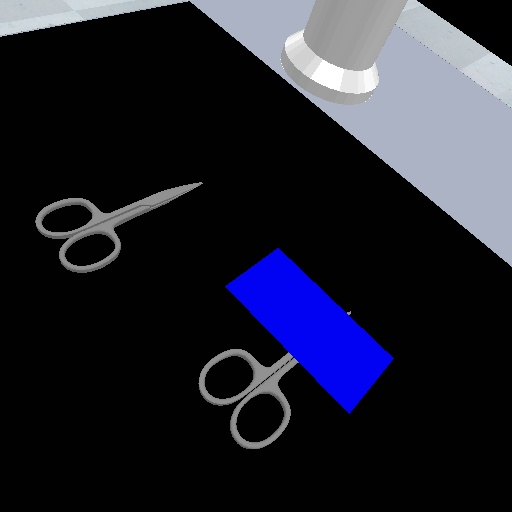tijera: (33, 178, 206, 278), (193, 345, 302, 452)
